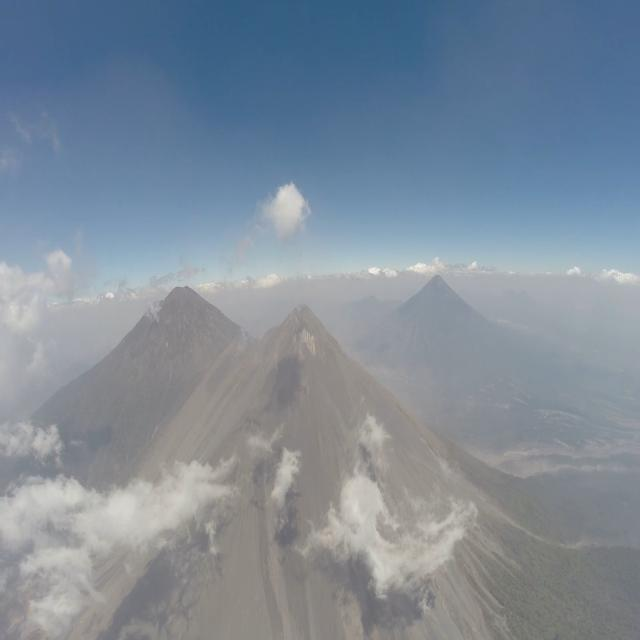Summit: (260, 300, 348, 363)
